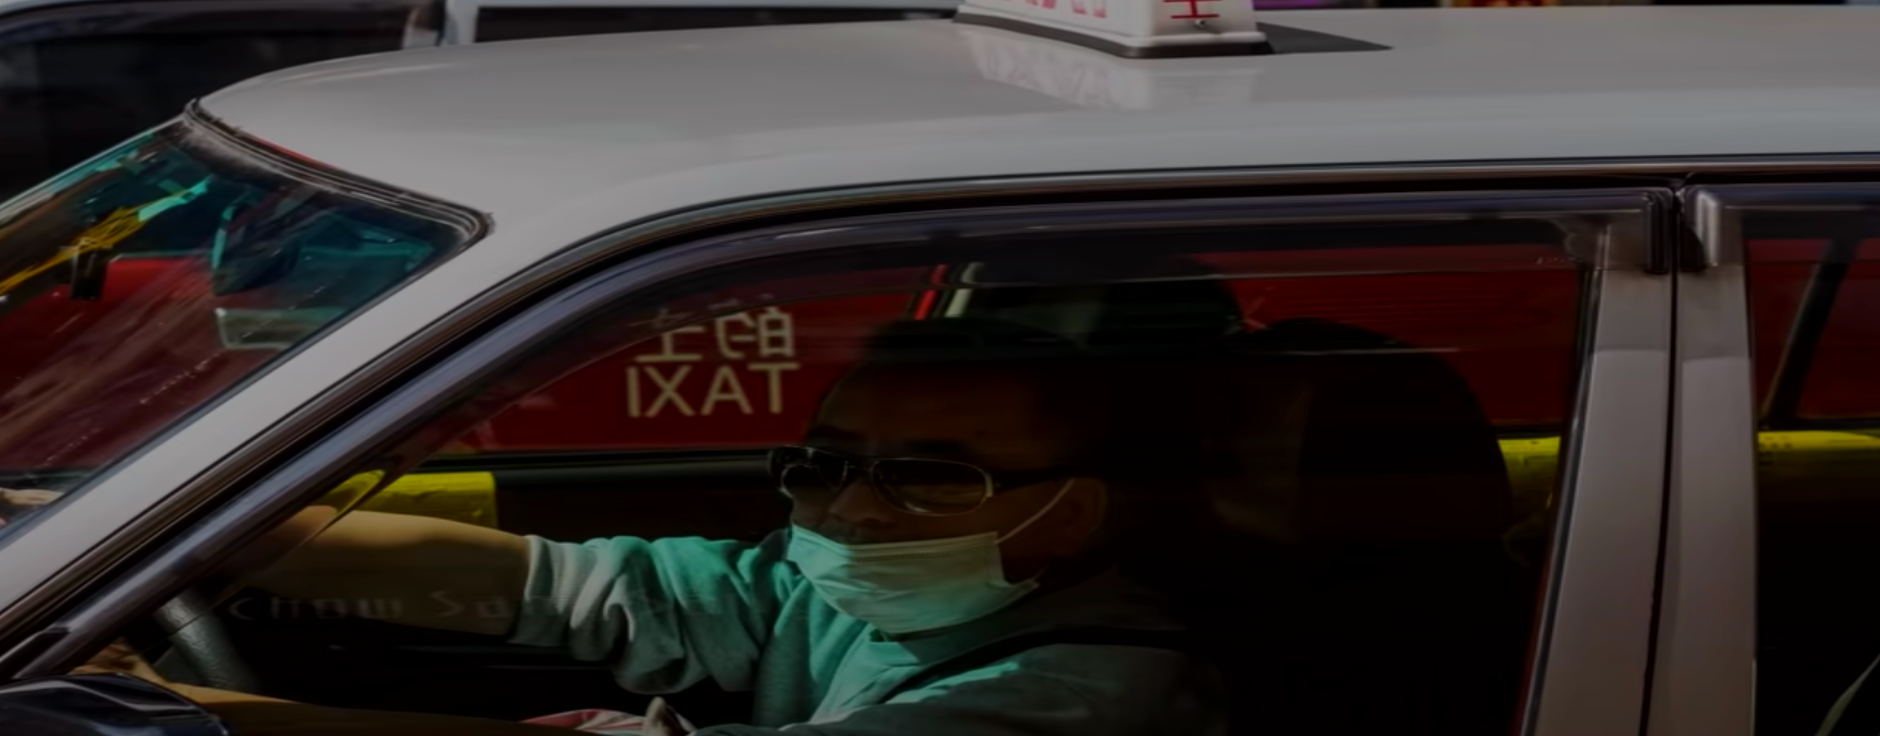mask_weared_incorrect: (774, 322, 1147, 639)
